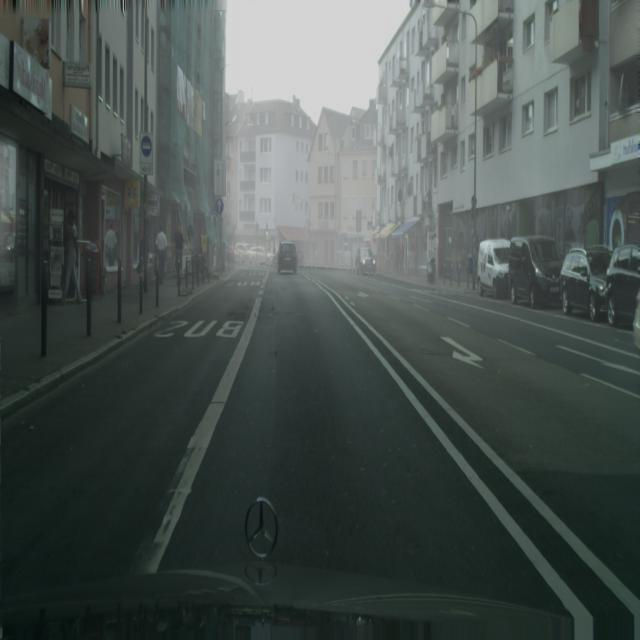bus: (61, 209, 83, 302), (155, 226, 168, 282), (104, 221, 118, 269), (174, 225, 184, 292)
person: (508, 234, 564, 309), (559, 245, 612, 321), (605, 243, 640, 328), (478, 238, 511, 298), (277, 241, 298, 274), (355, 245, 377, 276), (632, 287, 640, 352), (249, 245, 266, 264)
